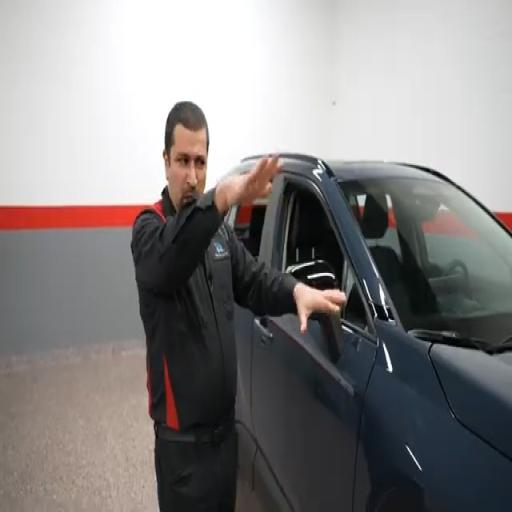door: (252, 175, 375, 510)
hood: (430, 345, 511, 459)
side_mirror: (287, 259, 339, 290), (287, 261, 339, 290)
window: (278, 183, 370, 331), (229, 200, 267, 257)
windshield: (339, 178, 511, 344)
